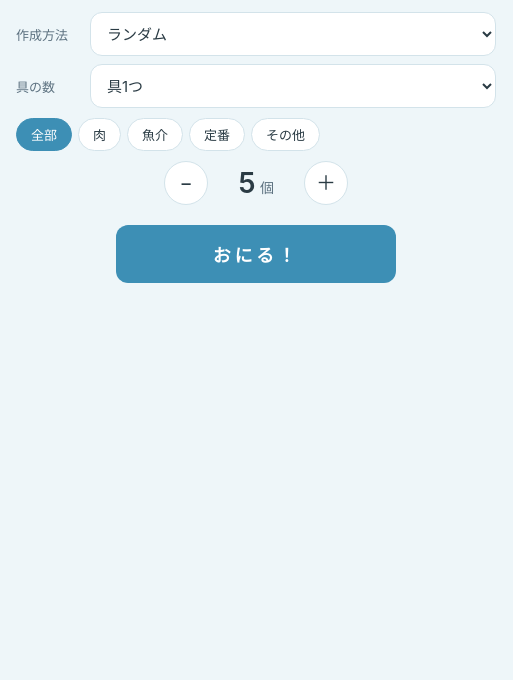
Test: LotteryScreen › 再抽選で結果が入れ替わる
Click the button "おにる！" at (256,254), box top-left (116, 225), bottom-right (396, 283)
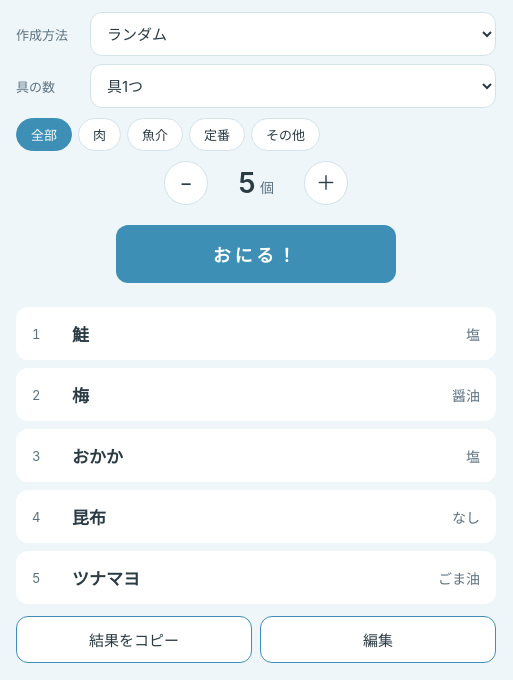
Click the button "おにる！" at (256,254), box top-left (116, 225), bottom-right (396, 283)
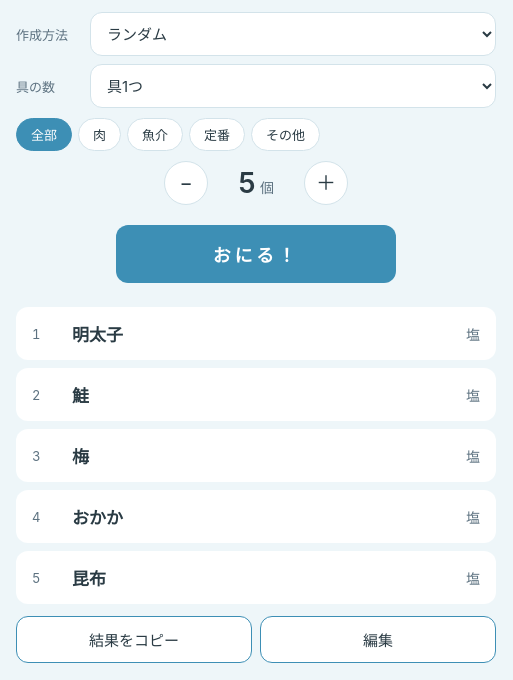
Check: the list item "1 明太子 塩" is shown, box top-left (16, 307), bottom-right (496, 360)
